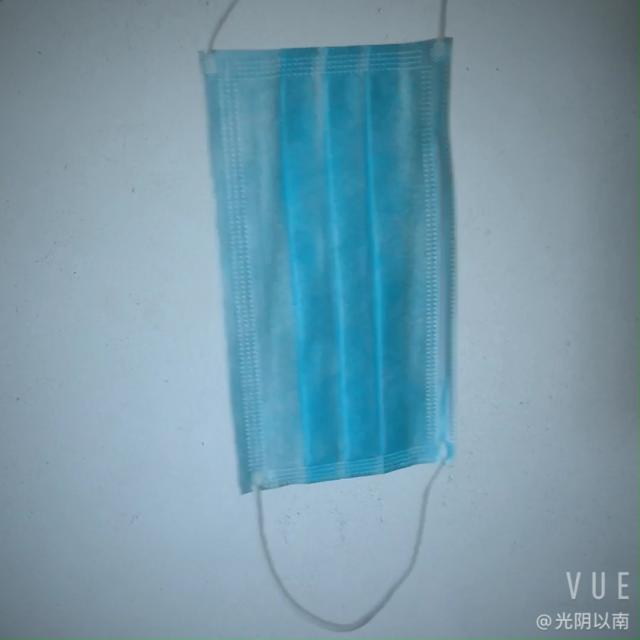face mask: (208, 21, 470, 502)
